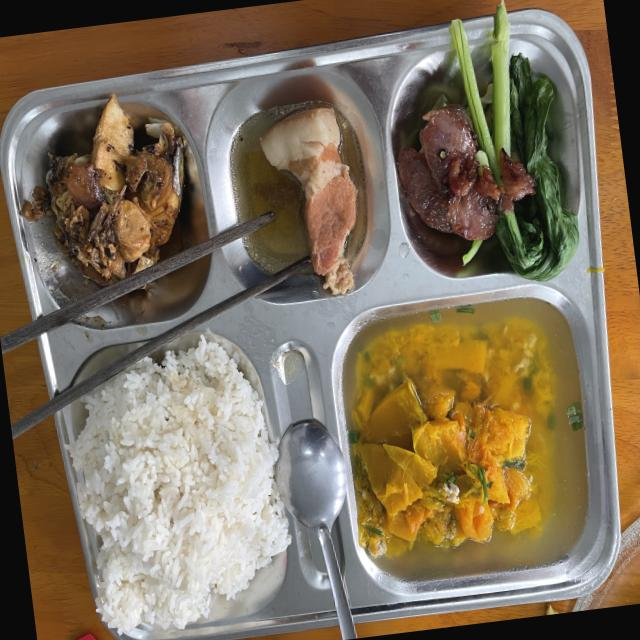canh bi do: (342, 298, 588, 580)
com: (65, 334, 291, 634)
ga kho: (20, 94, 183, 284)
kho trung: (260, 107, 356, 275)
thit chien: (397, 105, 535, 240)
